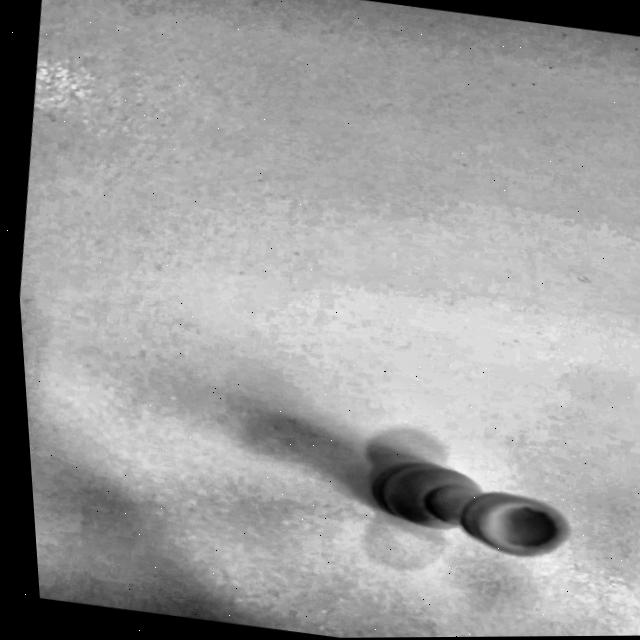white-rook: (287, 412, 593, 597)
